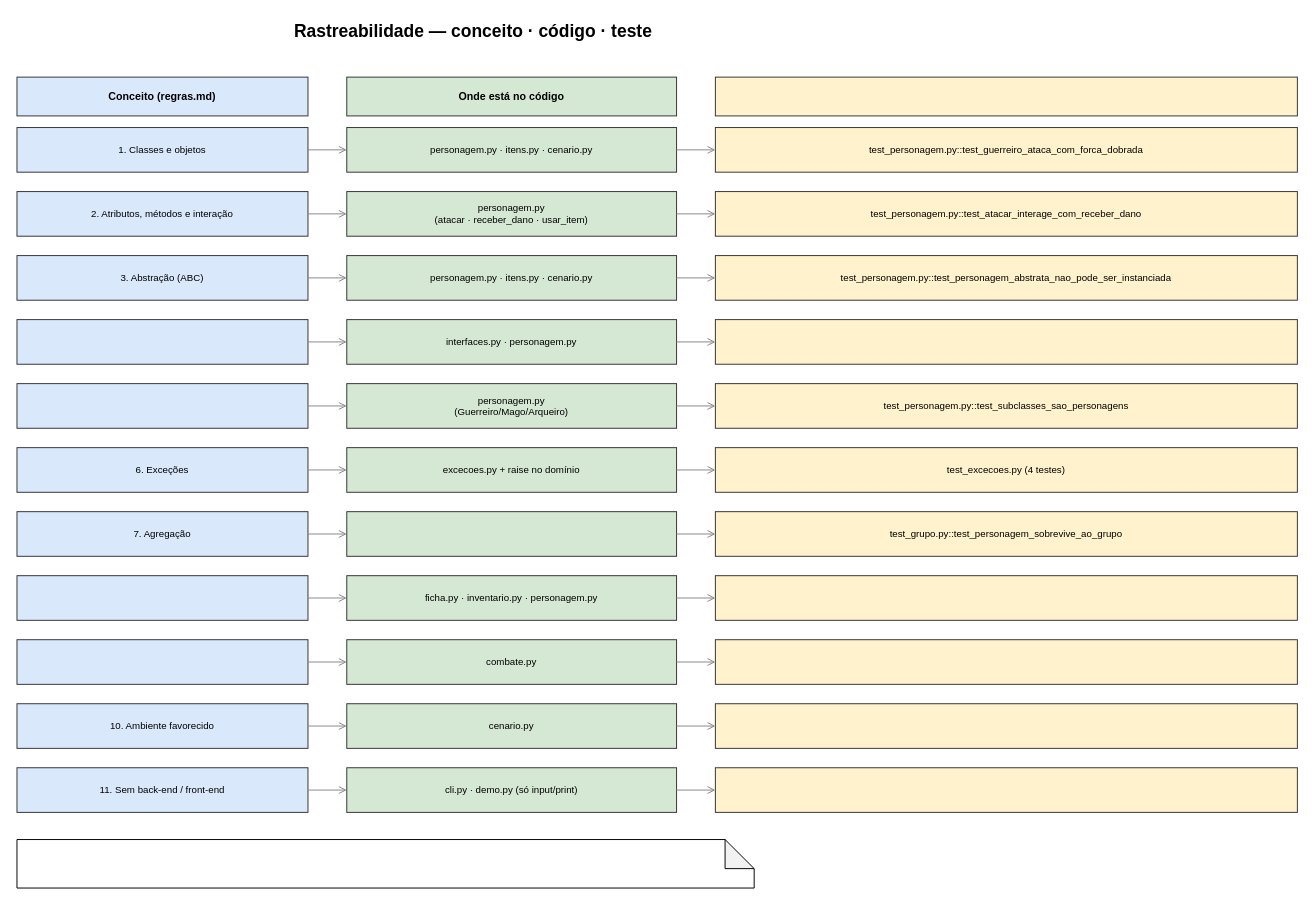
Some shapes in this 1314 by 905 pixel diagram are drawn without their labels. The shapes that lost their labels are listed below. From the top down, each one's centre as x and y in pixels, then its label:
At (1005,96): "Teste que prova".
At (162,341): "4. Interface Combatente".
At (1005,341): "test_combate.py::test_combate_rejeita_nao_combatente".
At (162,405): "5. Herança".
At (511,533): "grupo.py".
At (162,597): "8. Composição".
At (1005,597): "test_personagem.py::test_personagem_cria_ficha_e_inventario".
At (162,661): "9. Consumo de classe".
At (1005,661): "test_combate.py::test_combate_aplica_bonus_do_cenario".
At (1005,725): "test_cenario.py (12 testes)".
At (1005,789): "test_cli.py".
At (385,863): "Como provar python -m unittest discover -s testes · python demo.py".
